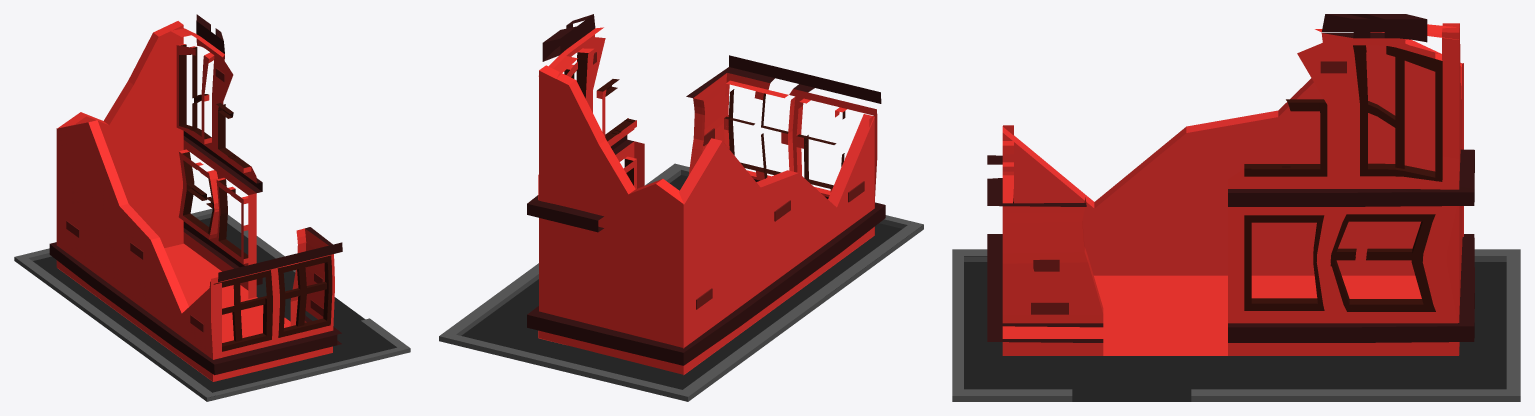
Rendered from house 90%.obj.
3 renders of one model, left to right at view 1: azimuth 30°, elevation 25°; view 2: azimuth 150°, elevation 25°; view 3: azimuth 270°, elevation 25°, orthographic. The views are drawn at different scales.
Visible parts, largest first — view 1: Cube.001, Plane_Plane.002, Plane.001, Plane.002_Plane.003; view 2: Plane.002_Plane.003, Plane_Plane.002, Cube.001, Plane.001; view 3: Cube.001, Plane_Plane.002, Plane.001, Plane.002_Plane.003.
Part boxes in pixels (bbox=[...]): Cube.001: bbox=[49, 14, 342, 381]; Plane_Plane.002: bbox=[56, 120, 221, 381]; Plane.001: bbox=[14, 208, 410, 401]; Plane.002_Plane.003: bbox=[58, 21, 183, 247]; Plane.002_Plane.003: bbox=[539, 65, 683, 374]; Plane_Plane.002: bbox=[679, 114, 874, 375]; Cube.001: bbox=[527, 14, 885, 365]; Plane.001: bbox=[439, 163, 923, 401]; Cube.001: bbox=[987, 14, 1474, 355]; Plane_Plane.002: bbox=[1002, 32, 1463, 275]; Plane.001: bbox=[952, 249, 1520, 401]; Plane.002_Plane.003: bbox=[1442, 23, 1462, 354].
Size of the model in its own units: 3.4 by 3.73 by 5.57.
